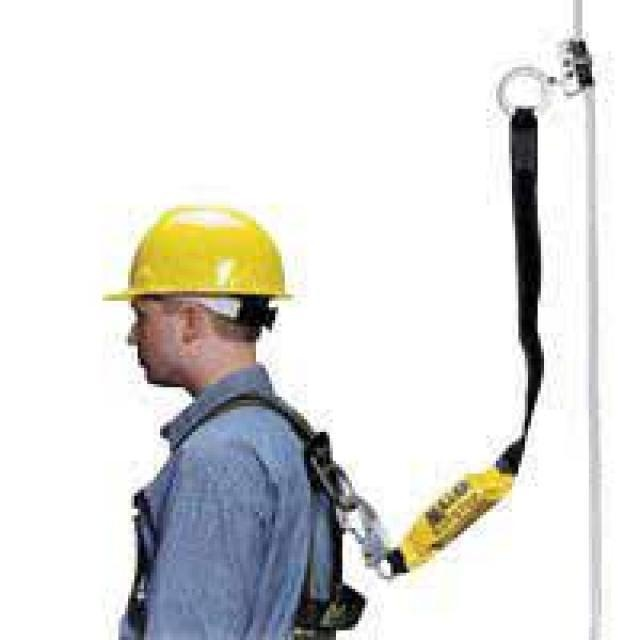Arnes_seguridad: (234, 386, 370, 640)
